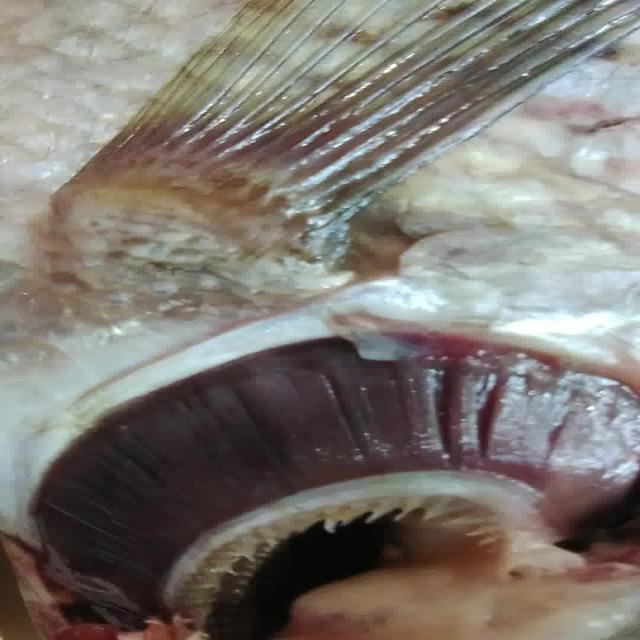Non-Fresh: (24, 312, 616, 604)
